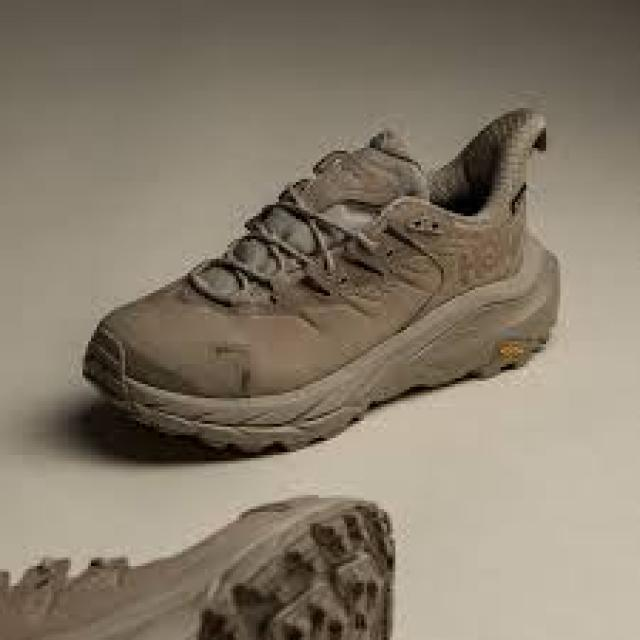shoe: (60, 93, 577, 470)
